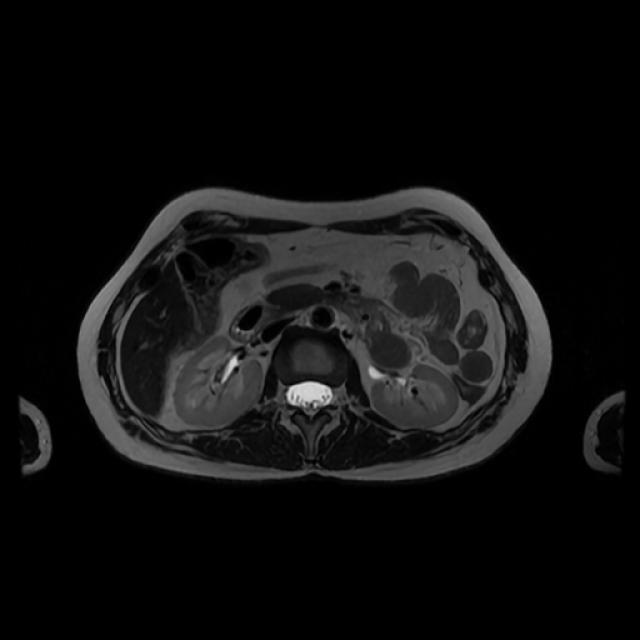sag: (176, 337, 263, 427)
sol: (373, 364, 460, 427)
